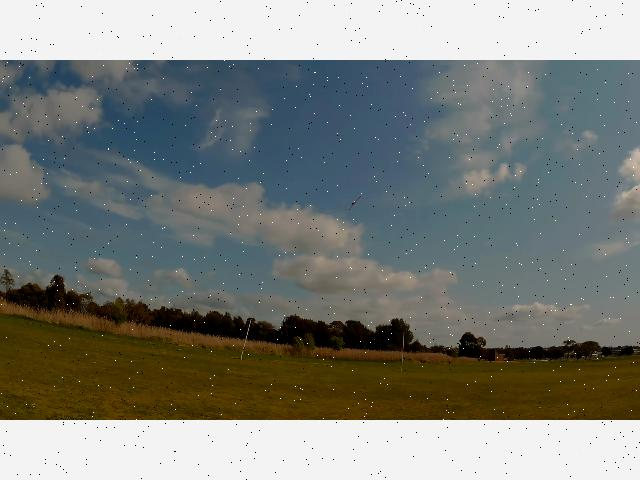Anti-Drone: (349, 196, 361, 209)
